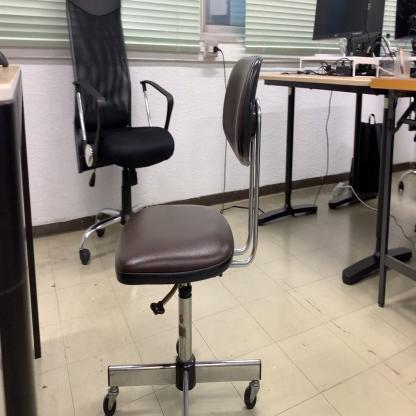chair: (100, 54, 264, 416), (65, 0, 175, 265)
